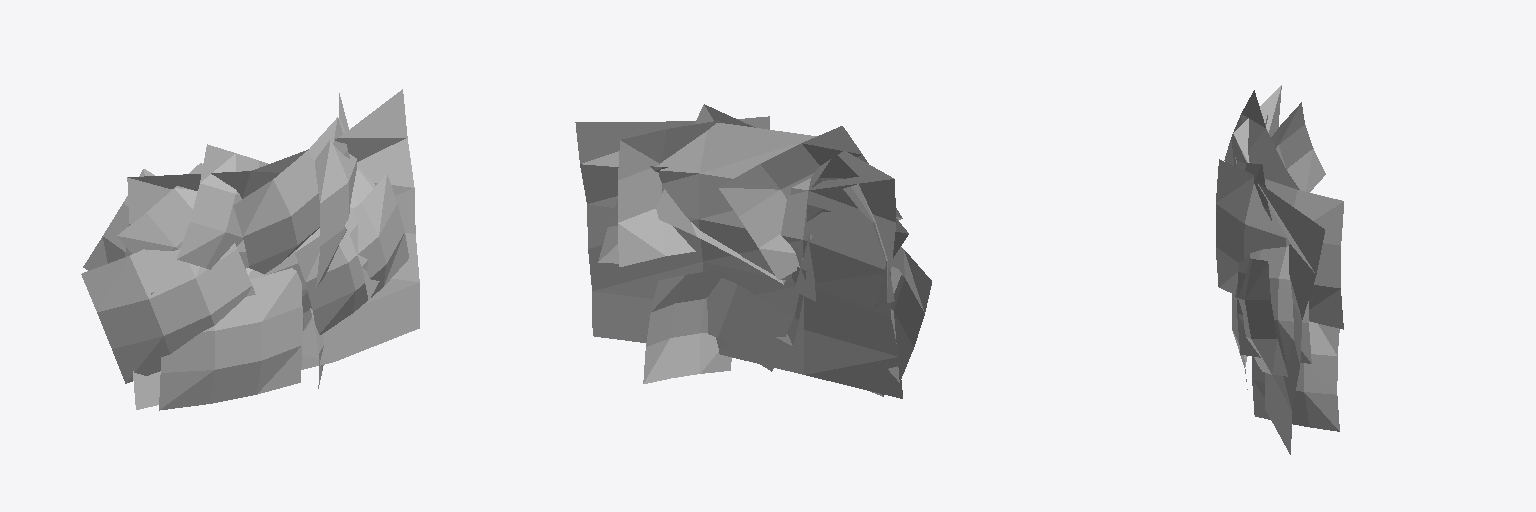
File: bushes03_03.obj
3 renders of one model, left to right at view 1: azimuth 30°, elevation 25°; view 2: azimuth 150°, elevation 25°; view 3: azimuth 270°, elevation 25°, orthographic.
Parts seen in each view (by area): view 1: bushes03_03; view 2: bushes03_03; view 3: bushes03_03.
Boxes of the visible parts, <box> form: bushes03_03: <box>81,89,419,410</box>; bushes03_03: <box>575,104,931,398</box>; bushes03_03: <box>1216,85,1343,454</box>.
Size of the model in its own units: 131 by 100 by 42.97.